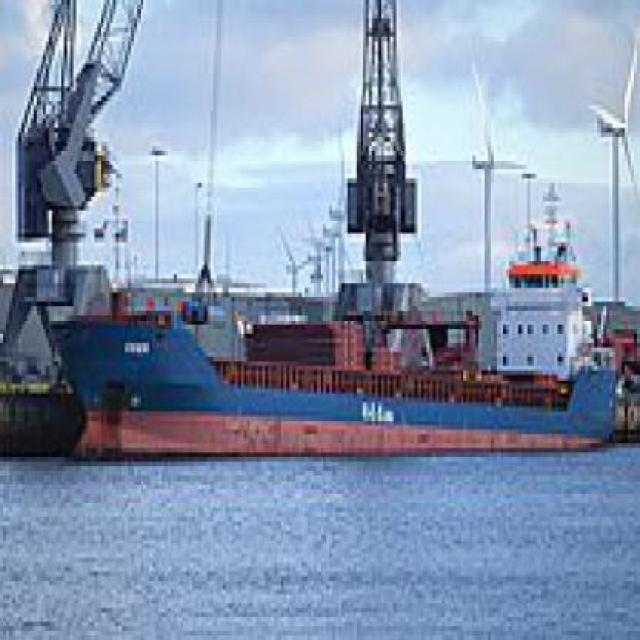container: (50, 147, 633, 467)
